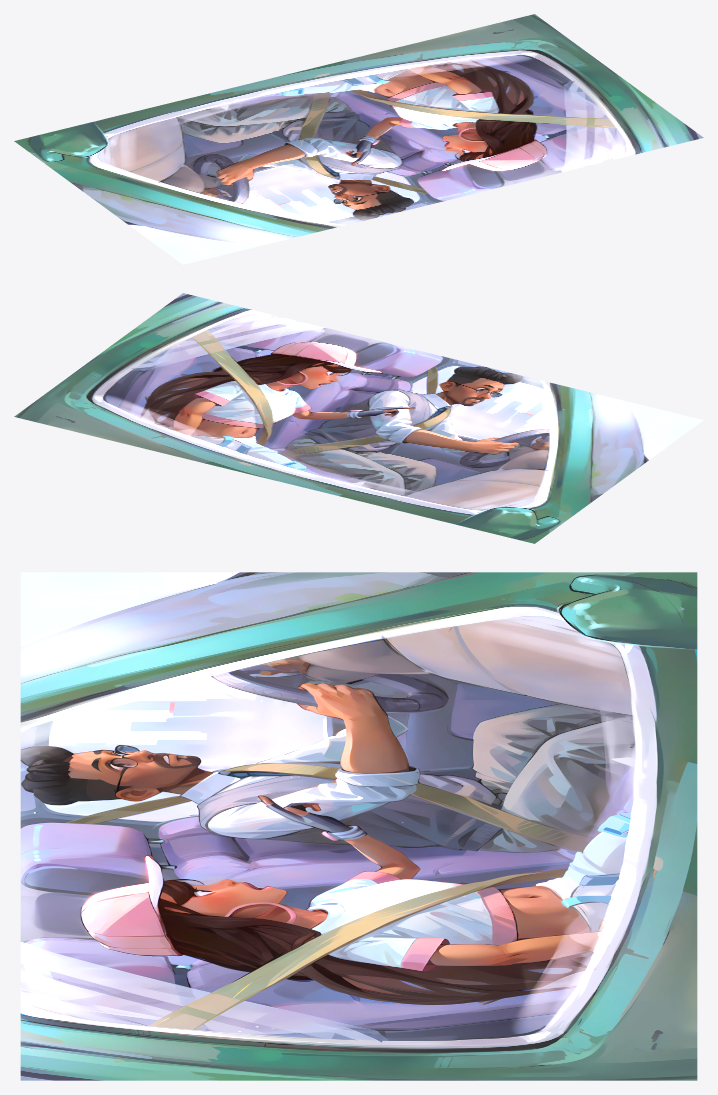
File: cs_car2.glb
3 renders of one model, top to bottom at view 1: azimuth 30°, elevation 25°; view 2: azimuth 150°, elevation 25°; view 3: azimuth 270°, elevation 25°, orthographic. The views are drawn at different scales.
Visible parts, largest first — view 1: 01; view 2: 01; view 3: 01.
Part boxes in pixels (x1=…): 01: x1=14, y1=14, x2=703, y2=264; 01: x1=14, y1=293, x2=703, y2=543; 01: x1=20, y1=572, x2=697, y2=1080.
Size of the model in its own units: 38.4 by 0 by 21.6.
Materials: 16 (16 with a texture image).
